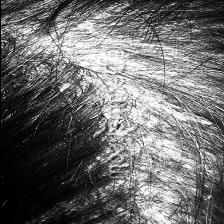Non-Cancerous Skin Condition: (4, 29, 98, 217), (138, 50, 201, 224)
